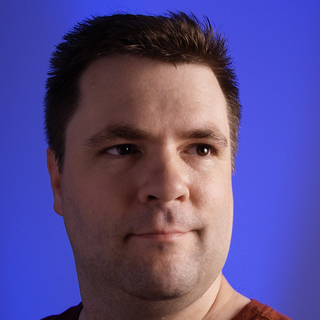eye: (93, 140, 144, 162), (178, 139, 220, 162)
